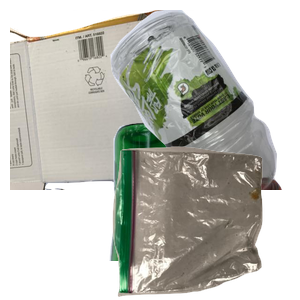cardboard: (10, 10, 191, 190)
glass: (107, 120, 278, 300)
plastic: (73, 10, 300, 190)
trash: (110, 144, 300, 300)
